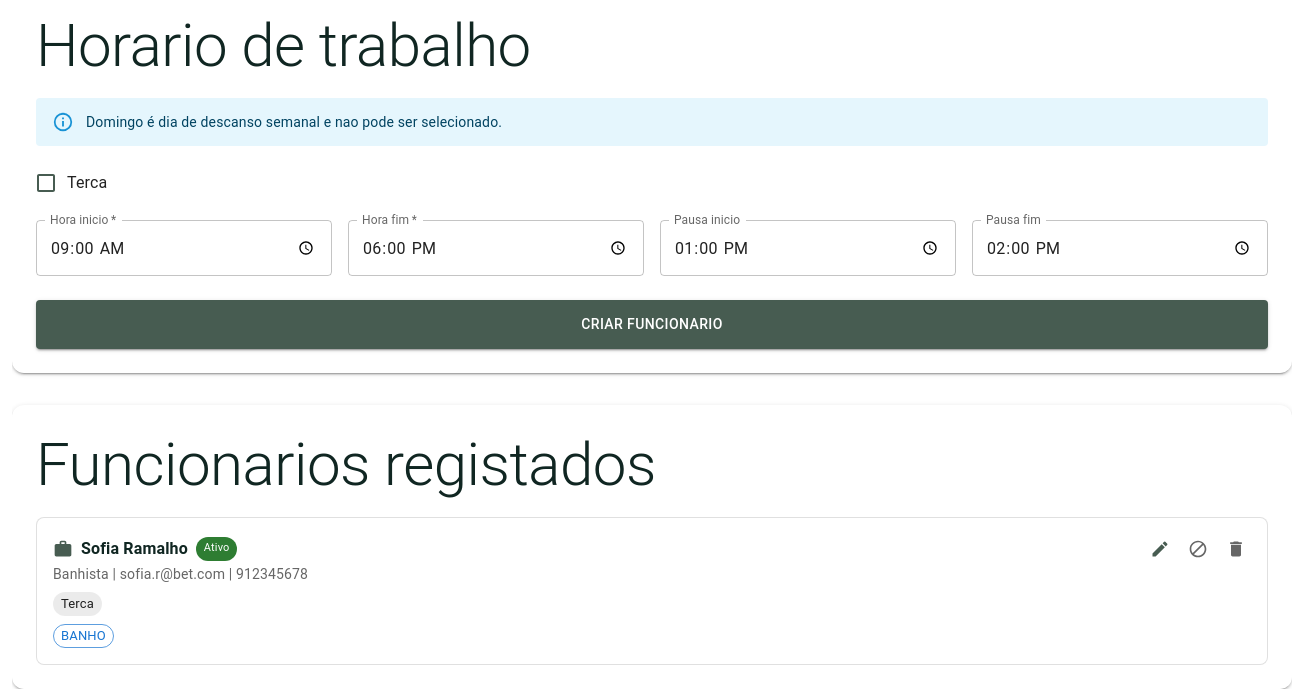
Test: Funcionarios page › clicar no botao editar nao navega para a agenda pessoal
(page scrolled)
Expected: the heading "Sofia Ramalho" is shown, [81,534,188,562]
What coordinates should you click on to do the following:
click the button named "Editar"
I would click on:
 (1160, 548)
Its box is [1145,534,1175,564].
(page scrolled)
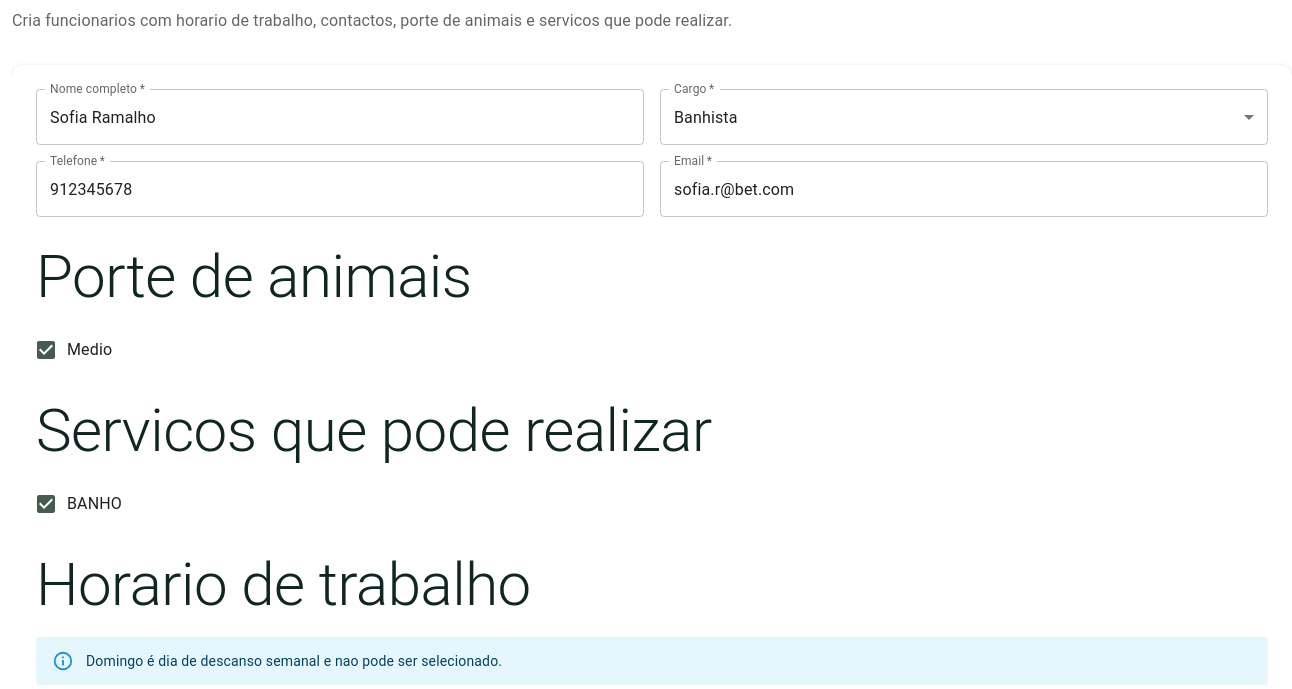
Result: the field showing "Sofia Ramalho" is shown at [36,89,644,145]
